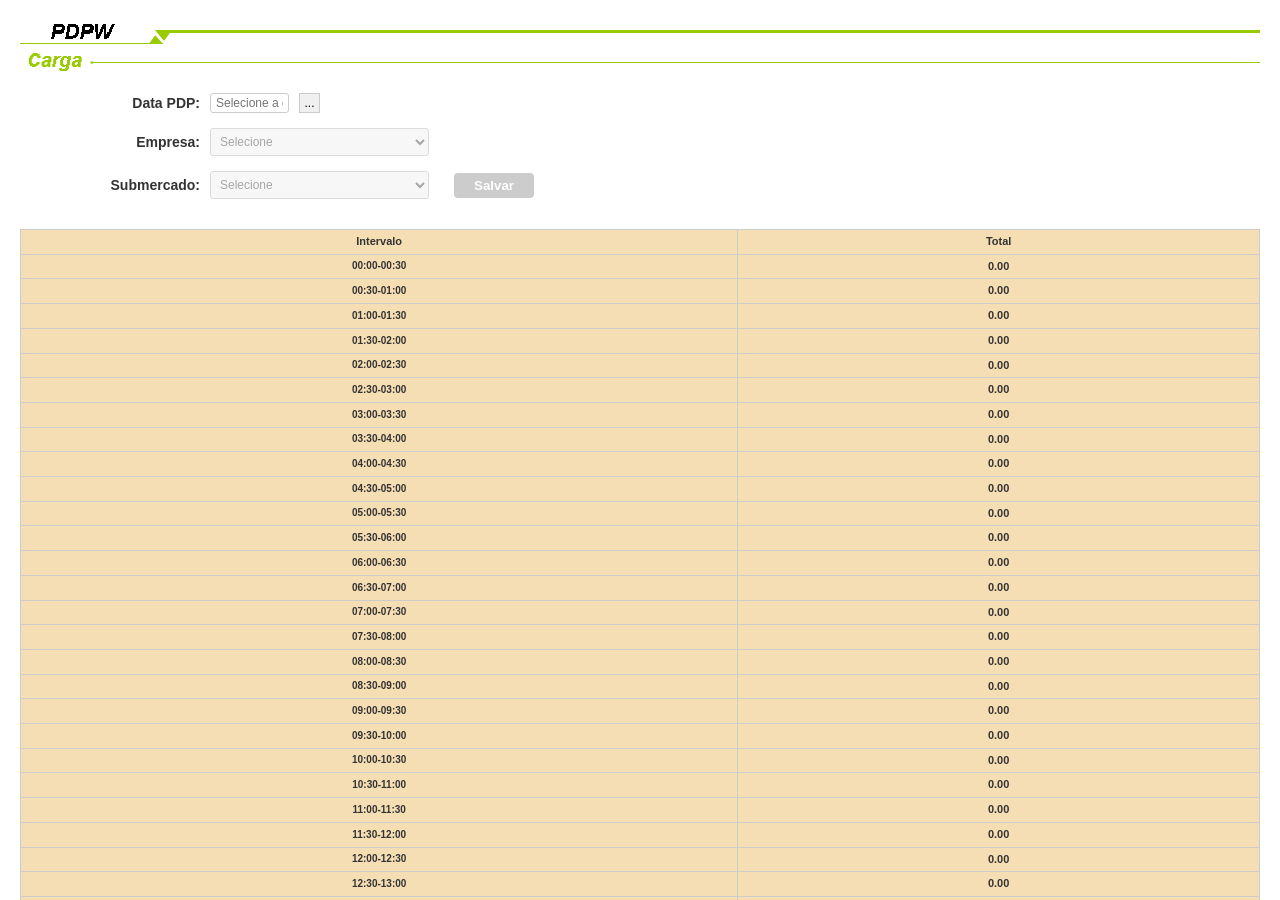
Scenario: EstimatedLoad Component › Seleção de Data › deve mostrar calendário ao clicar no botão
Click the button "...". click: click(310, 103)
box: [299,93,320,113]
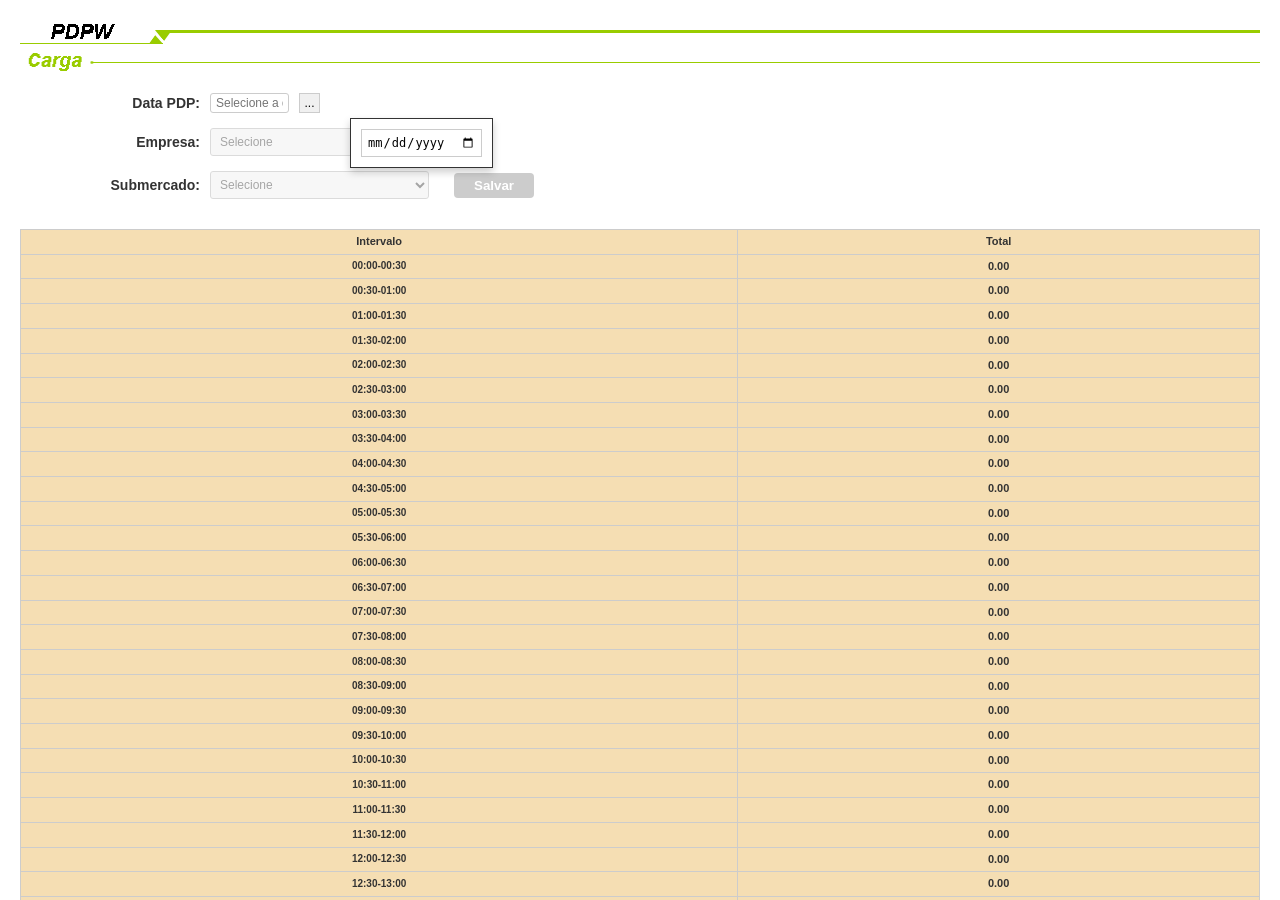
Now the date field is shown, box [361,129,482,157]
